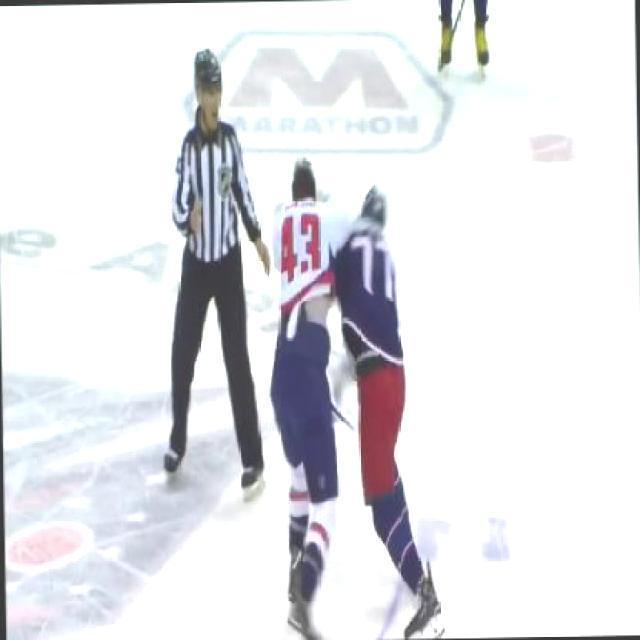fight: (269, 158, 443, 640)
